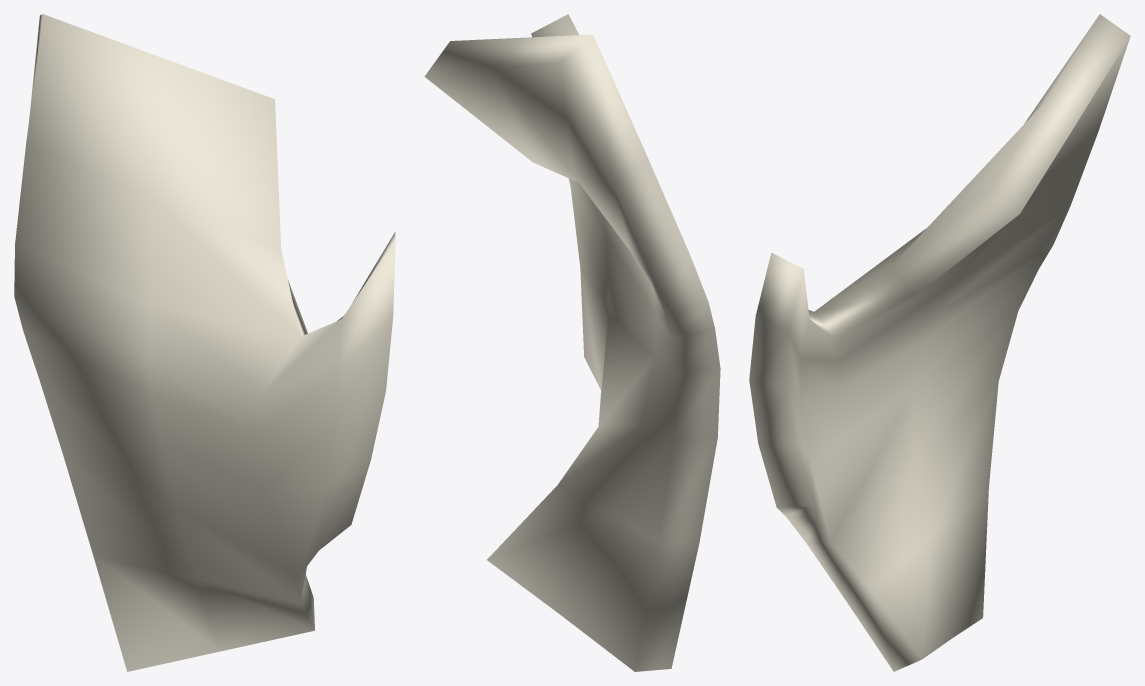
3 views of the same model, side by side, from view 1: azimuth 30°, elevation 25°; view 2: azimuth 150°, elevation 25°; view 3: azimuth 270°, elevation 25° (orthographic). The views are drawn at different scales.
Visible parts, largest first — view 1: ZA_6f378f4cb711d854; view 2: ZA_6f378f4cb711d854; view 3: ZA_6f378f4cb711d854.
Boxes of the visible parts, x1,y1,x2,y2 form: ZA_6f378f4cb711d854: [14, 14, 395, 671]; ZA_6f378f4cb711d854: [424, 14, 720, 671]; ZA_6f378f4cb711d854: [749, 14, 1130, 671].
Size of the model in its own units: 0.00399 by 0.00863 by 0.00498.
